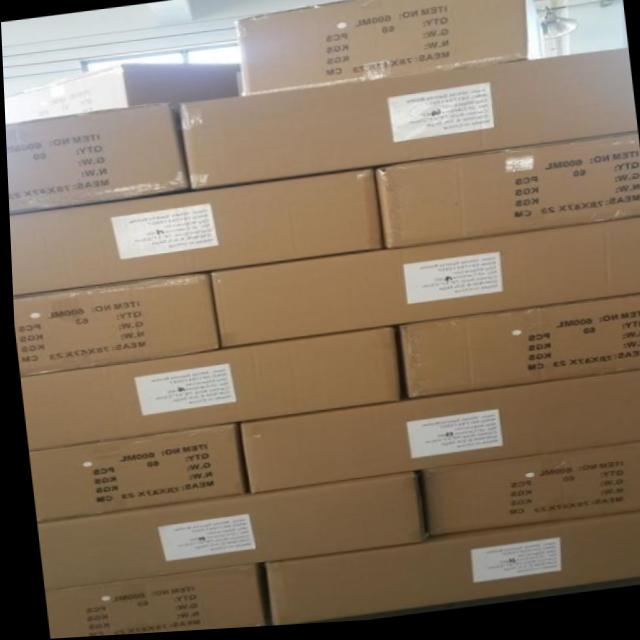box: (177, 54, 635, 193), (207, 224, 640, 352), (236, 377, 640, 497), (7, 172, 380, 295), (16, 332, 397, 451), (32, 477, 426, 591), (259, 516, 640, 629), (232, 0, 547, 97), (377, 140, 640, 255), (397, 300, 640, 406), (10, 275, 219, 376), (24, 427, 240, 522), (416, 449, 640, 540), (4, 104, 190, 213), (39, 568, 260, 639), (3, 64, 238, 123)
